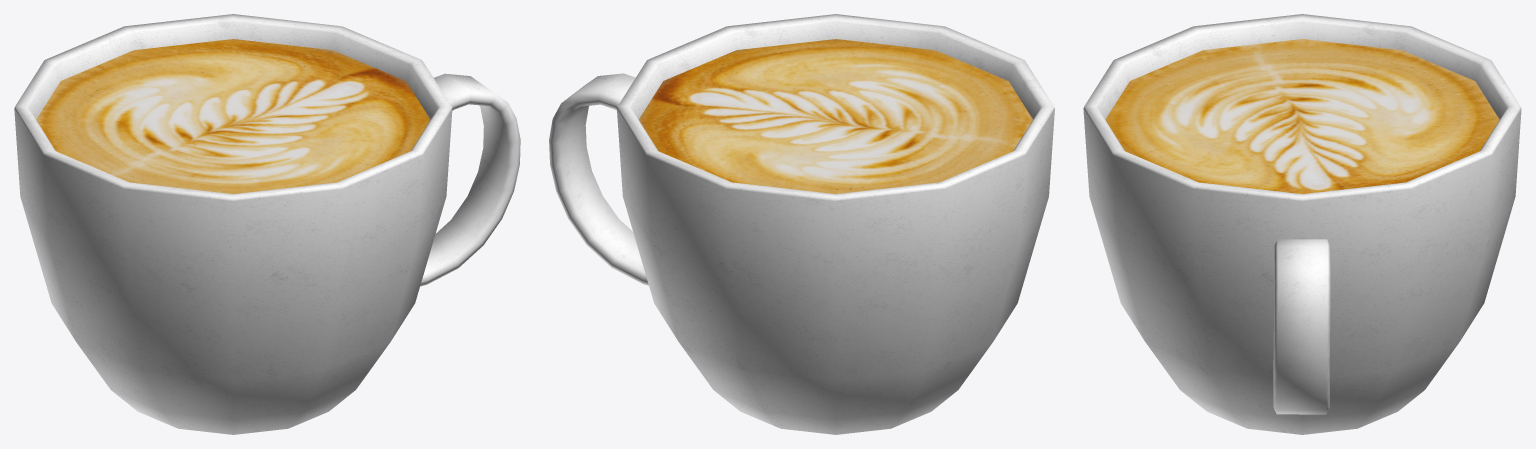
Rendered from Cup Of Coffee.fbx.
3 renders of one model, left to right at view 1: azimuth 30°, elevation 25°; view 2: azimuth 150°, elevation 25°; view 3: azimuth 270°, elevation 25°, orthographic.
Parts seen in each view (by area): view 1: NurbsPath; view 2: NurbsPath; view 3: NurbsPath.
Part boxes in pixels (x1=…): NurbsPath: x1=14, y1=14, x2=520, y2=434; NurbsPath: x1=549, y1=14, x2=1054, y2=434; NurbsPath: x1=1083, y1=14, x2=1521, y2=434.
Bounding box in the file's own units: 588 × 362 × 480.
